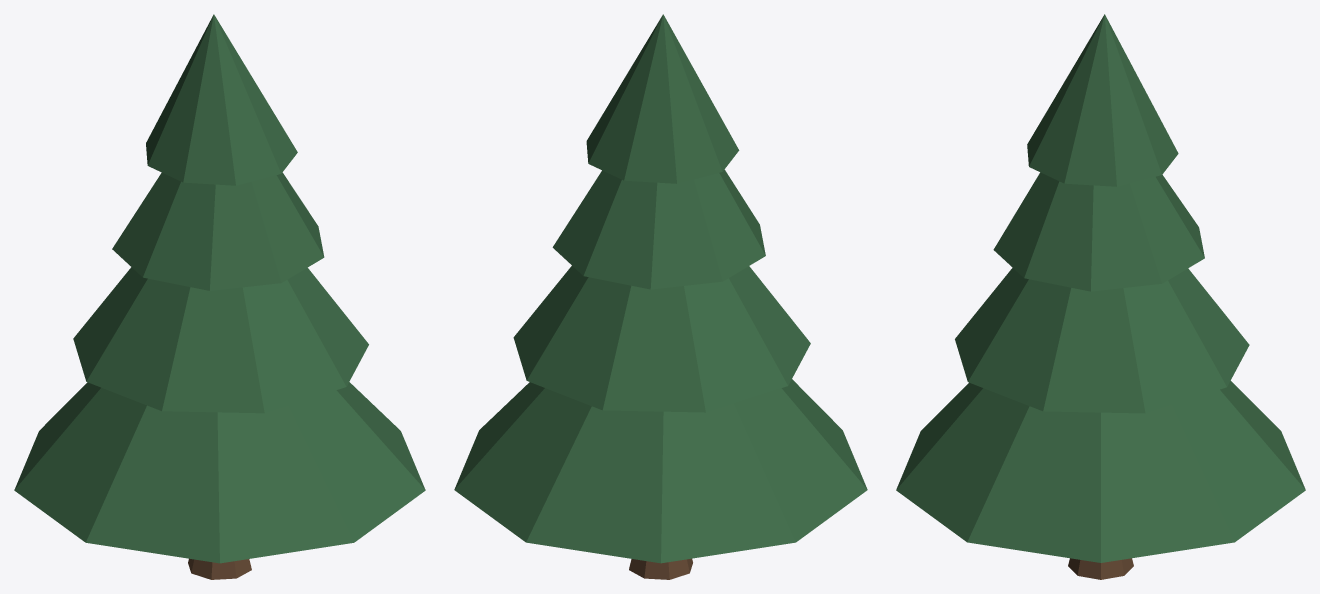
File: tree_pine_2.glb
3 renders of one model, left to right at view 1: azimuth 30°, elevation 25°; view 2: azimuth 150°, elevation 25°; view 3: azimuth 270°, elevation 25°, orthographic.
Visible parts, largest first — view 1: tree_pine_2; view 2: tree_pine_2; view 3: tree_pine_2.
Part boxes in pixels (x1,y1,x2,y2): tree_pine_2: (14, 14, 425, 579); tree_pine_2: (454, 14, 867, 579); tree_pine_2: (896, 14, 1305, 579).
Bounding box in the file's own units: 3.3 × 4.96 × 3.35.
